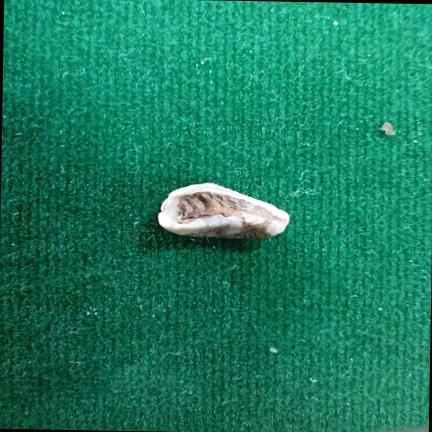shell: (157, 183, 289, 238)
